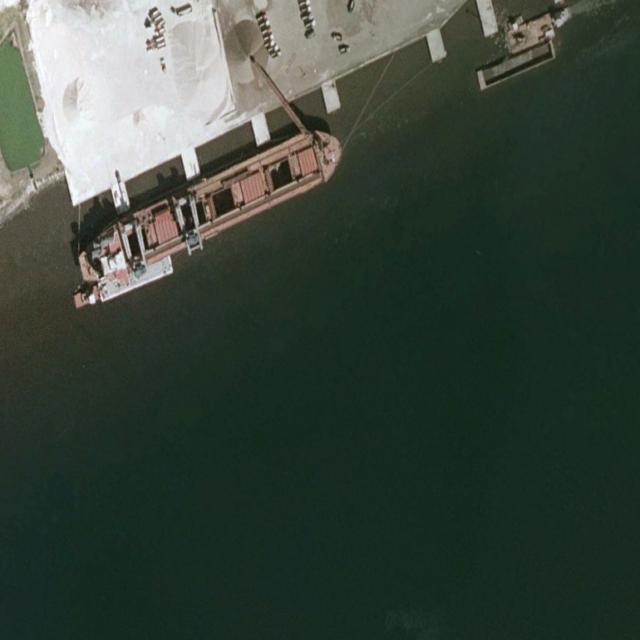Cargo: (75, 116, 349, 295)
